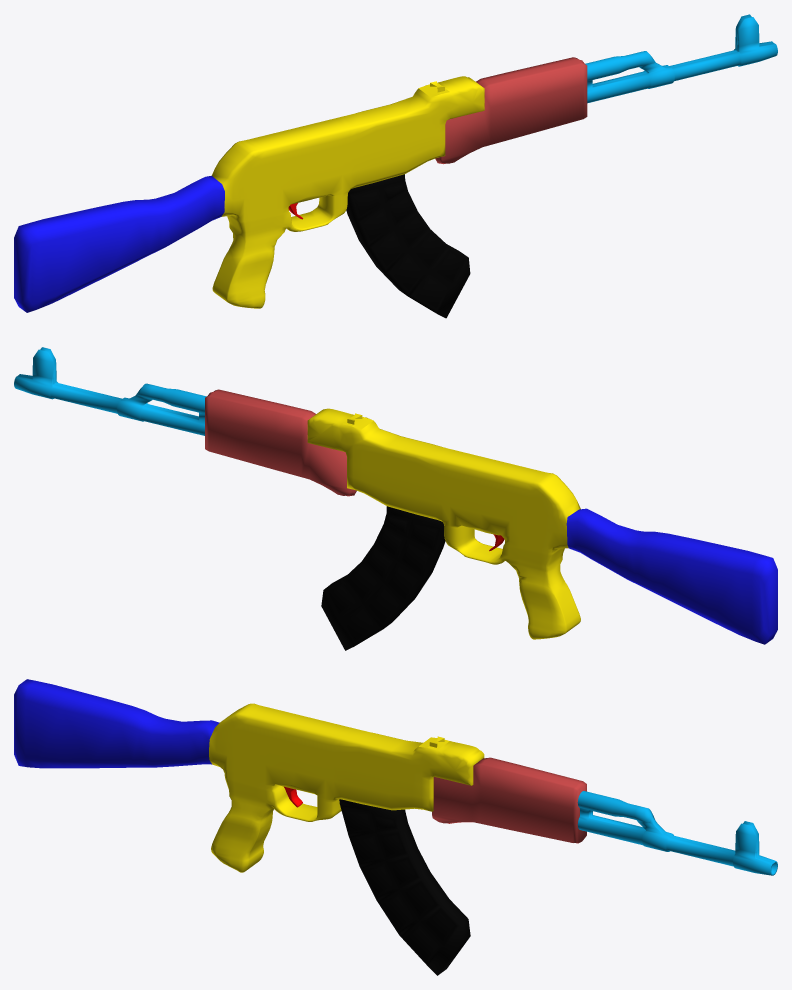
3 views of the same model, one above another, from view 1: azimuth 30°, elevation 25°; view 2: azimuth 150°, elevation 25°; view 3: azimuth 330°, elevation 25° (orthographic).
Visible parts, largest first — view 1: Gun, Mag, hand, Loop; view 2: Gun, Mag, hand, Loop; view 3: Gun, Mag, hand, Loop.
Part boxes in pixels (x1,y1,x2,y2): Gun: (14,76,484,312); Mag: (346,174,470,318); hand: (435,57,587,164); Loop: (585,14,777,103); Gun: (307,408,777,644); Mag: (321,506,445,650); hand: (205,389,356,496); Loop: (14,347,206,435); Gun: (14,679,484,872); Mag: (339,799,470,975); hand: (432,757,586,843); Loop: (577,791,777,875).
Bounding box in the file's own units: 0.8928 × 0.2614 × 0.0436.
